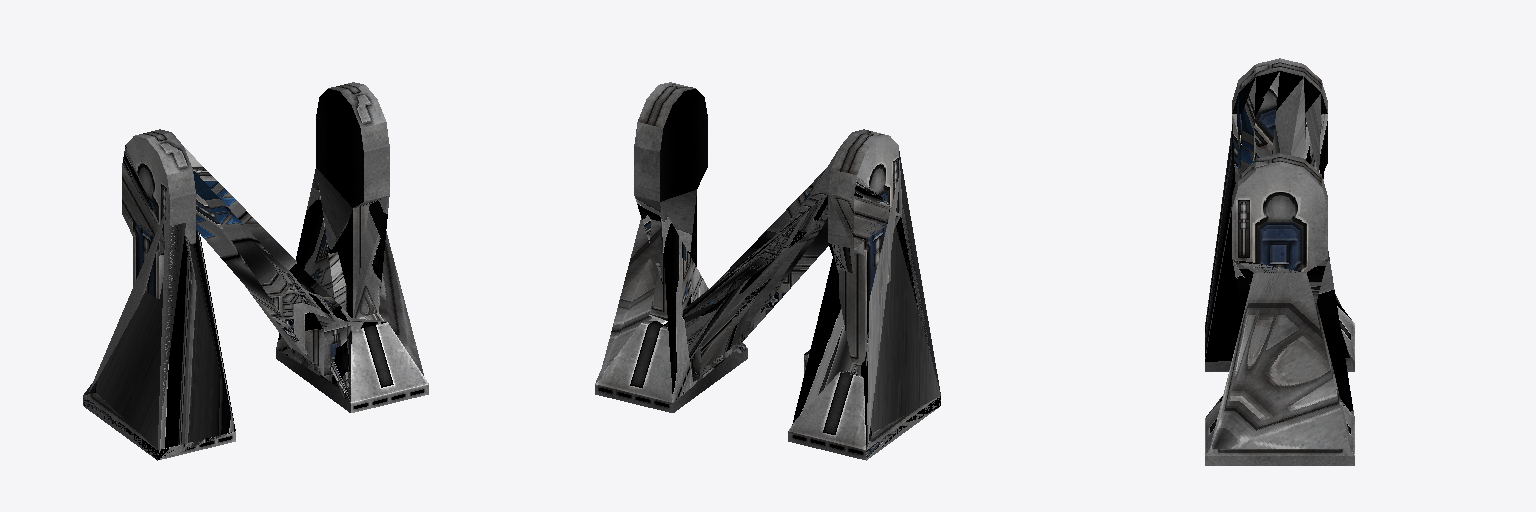
3 views of the same model, side by side, from view 1: azimuth 30°, elevation 25°; view 2: azimuth 150°, elevation 25°; view 3: azimuth 270°, elevation 25° (orthographic).
Parts seen in each view (by area): view 1: R2D2_Body, R2D2_Legs; view 2: R2D2_Body, R2D2_Legs; view 3: R2D2_Body, R2D2_Legs.
Boxes of the visible parts, x1,y1,x2,y2 form: R2D2_Body: [83, 145, 423, 459]; R2D2_Legs: [83, 82, 428, 460]; R2D2_Body: [595, 149, 940, 460]; R2D2_Legs: [595, 82, 940, 459]; R2D2_Body: [1205, 72, 1354, 455]; R2D2_Legs: [1205, 58, 1354, 465].
Size of the model in its own units: 5.72 by 5.8 by 2.73.
1 materials, 1 textured.